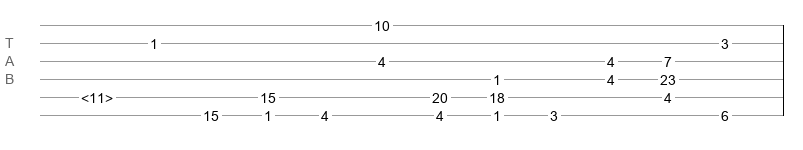1: (150, 36, 158, 46), (264, 108, 272, 118), (493, 108, 501, 118), (493, 72, 501, 82)
10: (374, 18, 390, 28)
15: (203, 108, 219, 118), (260, 90, 276, 100)
18: (489, 90, 505, 100)
20: (432, 90, 448, 100)
23: (660, 72, 676, 82)
3: (550, 108, 558, 118), (721, 36, 729, 46)
4: (321, 108, 329, 118), (378, 54, 386, 64), (436, 108, 444, 118), (607, 72, 615, 82), (607, 54, 615, 64), (664, 90, 672, 100)
6: (721, 108, 729, 118)
7: (664, 54, 672, 64)
harmonic: (81, 90, 113, 100)
